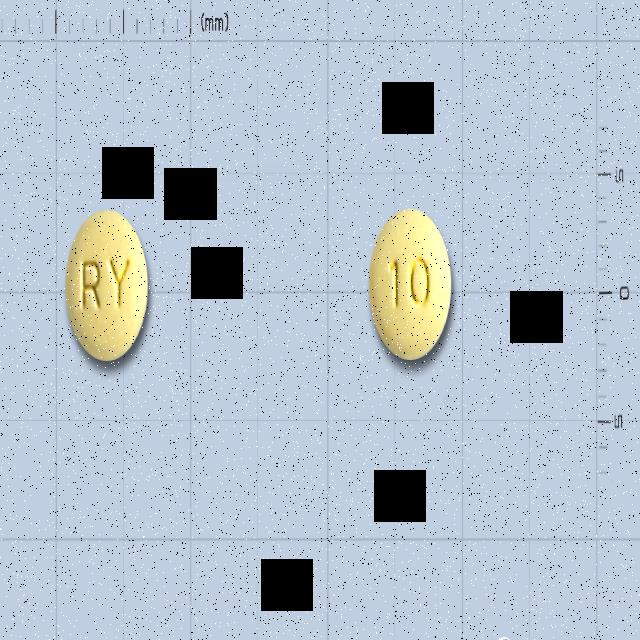Crabacter Tab: (65, 210, 149, 363), (371, 204, 452, 360)
